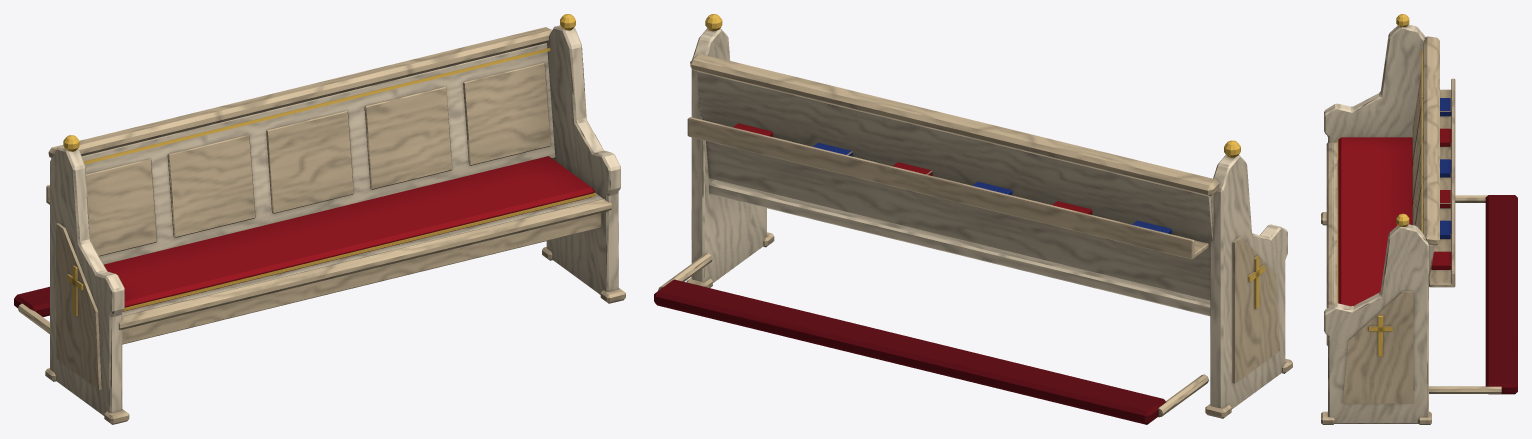
The model's file is pew_tex.glb.
3 renders of one model, left to right at view 1: azimuth 30°, elevation 25°; view 2: azimuth 150°, elevation 25°; view 3: azimuth 270°, elevation 25°, orthographic. The views are drawn at different scales.
Parts seen in each view (by area): view 1: pew; view 2: pew; view 3: pew.
Part boxes in pixels (left/top/right/bottom): pew: left=14, top=14, right=625, bottom=424; pew: left=654, top=14, right=1292, bottom=424; pew: left=1321, top=14, right=1517, bottom=424.
Bounding box in the file's own units: 2.44 × 1.13 × 0.975.
Materials: 6 (6 with a texture image).
